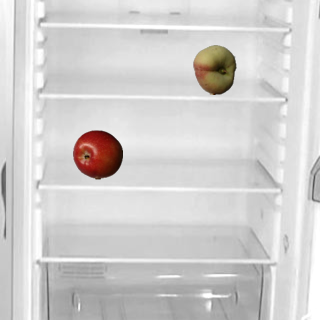Apple Braeburn: (72, 129, 122, 179)
Peach Flat: (189, 44, 239, 94)
